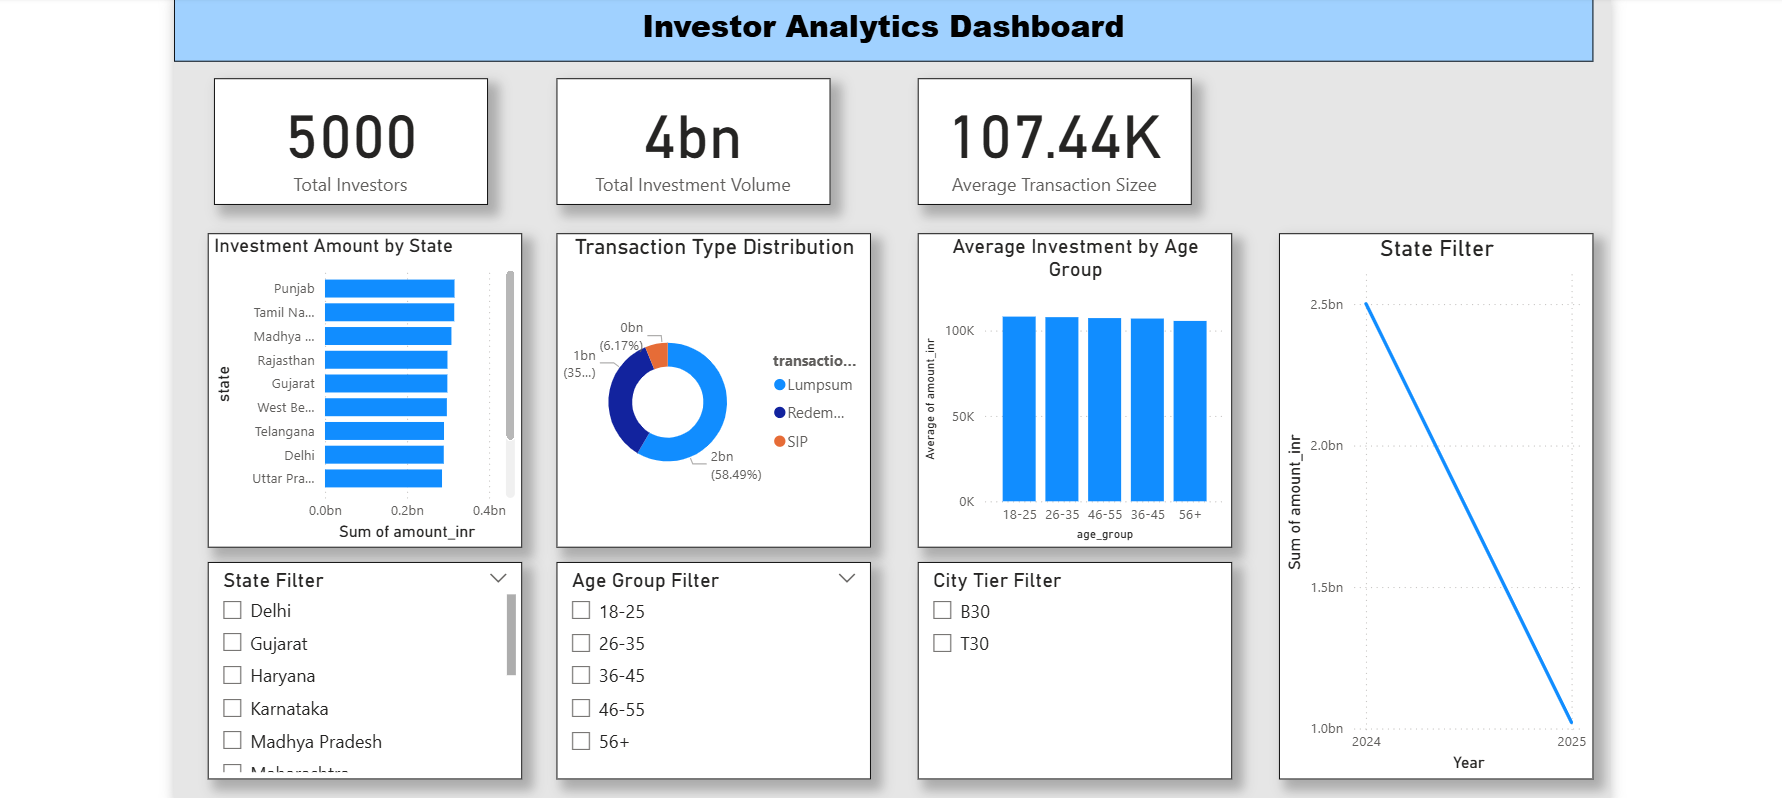

This screenshot's page, from the dashboard's own definition file:
{"tool":"powerbi","page":{"name":"Investor Analytics","canvas":[1280,720],"ordinal":2},"visuals":[{"type":"clusteredBarChart","title":"Investment Amount by State","fields":{"Category":["08_investor_transactions.state"],"Y":["Sum(08_investor_transactions.amount_inr)"]},"box":[30.3,210.6,279.9,279.9],"z":0},{"type":"donutChart","title":"Transaction Type Distribution","fields":{"Category":["08_investor_transactions.transaction_type"],"Y":["Sum(08_investor_transactions.amount_inr)"]},"box":[340.5,210.6,279.9,279.9],"z":1000},{"type":"clusteredColumnChart","title":"Average Investment by Age Group","fields":{"Category":["08_investor_transactions.age_group"],"Y":["Avg(08_investor_transactions.amount_inr)"]},"box":[662.2,210.6,279.9,279.9],"z":2000},{"type":"lineChart","title":"State Filter","fields":{"Category":["08_investor_transactions.transaction_date.Variation.Date Hierarchy.Year","08_investor_transactions.transaction_date.Variation.Date Hierarchy.Month"],"Y":["Sum(08_investor_transactions.amount_inr)"]},"box":[984,210.6,279.9,486.2],"z":3000},{"type":"slicer","fields":{"Values":["08_investor_transactions.state"]},"box":[30.3,503.5,279.9,193.3],"z":4000},{"type":"slicer","fields":{"Values":["08_investor_transactions.age_group"]},"box":[340.5,503.5,279.9,193.3],"z":5000},{"type":"slicer","fields":{"Values":["08_investor_transactions.city_tier"]},"box":[662.2,503.5,279.9,193.3],"z":6000},{"type":"card","fields":{"Values":["Count(08_investor_transactions.investor_id)"]},"box":[36.1,72.1,243.8,112.5],"z":7000},{"type":"card","fields":{"Values":["Sum(08_investor_transactions.amount_inr)"]},"box":[340.5,72.1,243.8,112.5],"z":8000},{"type":"card","fields":{"Values":["Avg(08_investor_transactions.amount_inr)"]},"box":[662.2,72.1,243.8,112.5],"z":9000},{"type":"textbox","box":[0,0,1263.9,57.7],"z":10000}]}

Visuals, with their boxes on the page's 1280x720 design canvas (x1, y1, x2, y2). These are canvas units, not pixel positions in the 1782x798 screenshot, which may show the page scaled, cropped or inside an application window:
"Investment Amount by State" clusteredBarChart: 30:211:310:490
"Transaction Type Distribution" donutChart: 340:211:620:490
"Average Investment by Age Group" clusteredColumnChart: 662:211:942:490
"State Filter" lineChart: 984:211:1264:697
slicer - 08_investor_transactions.state: 30:504:310:697
slicer - 08_investor_transactions.age_group: 340:504:620:697
slicer - 08_investor_transactions.city_tier: 662:504:942:697
card - Count(08_investor_transactions.investor_id): 36:72:280:185
card - Sum(08_investor_transactions.amount_inr): 340:72:584:185
card - Avg(08_investor_transactions.amount_inr): 662:72:906:185
textbox: 0:0:1264:58
